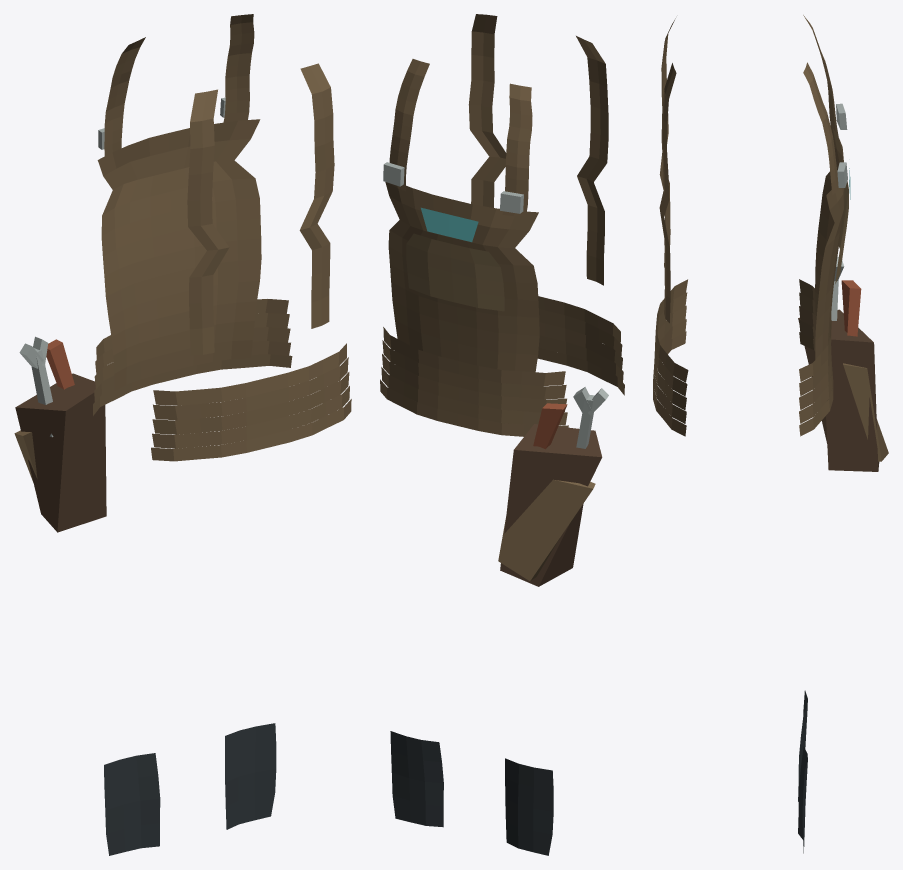
The model's file is lwf_maintenance_male_overlay_v2.glb.
The picture shows the model from 3 angles, left to right: view 1: azimuth 30°, elevation 25°; view 2: azimuth 150°, elevation 25°; view 3: azimuth 270°, elevation 25°; orthographic projection. The views are drawn at different scales.
Visible parts, largest first — view 1: LWF_Maintenance_Male_Overlay; view 2: LWF_Maintenance_Male_Overlay; view 3: LWF_Maintenance_Male_Overlay.
Part boxes in pixels (bbox=[...]): LWF_Maintenance_Male_Overlay: bbox=[14, 14, 351, 855]; LWF_Maintenance_Male_Overlay: bbox=[380, 14, 624, 855]; LWF_Maintenance_Male_Overlay: bbox=[653, 15, 888, 853].
Size of the model in its own units: 0.3416 by 1.03 by 0.2832.
1 material, 1 textured.
